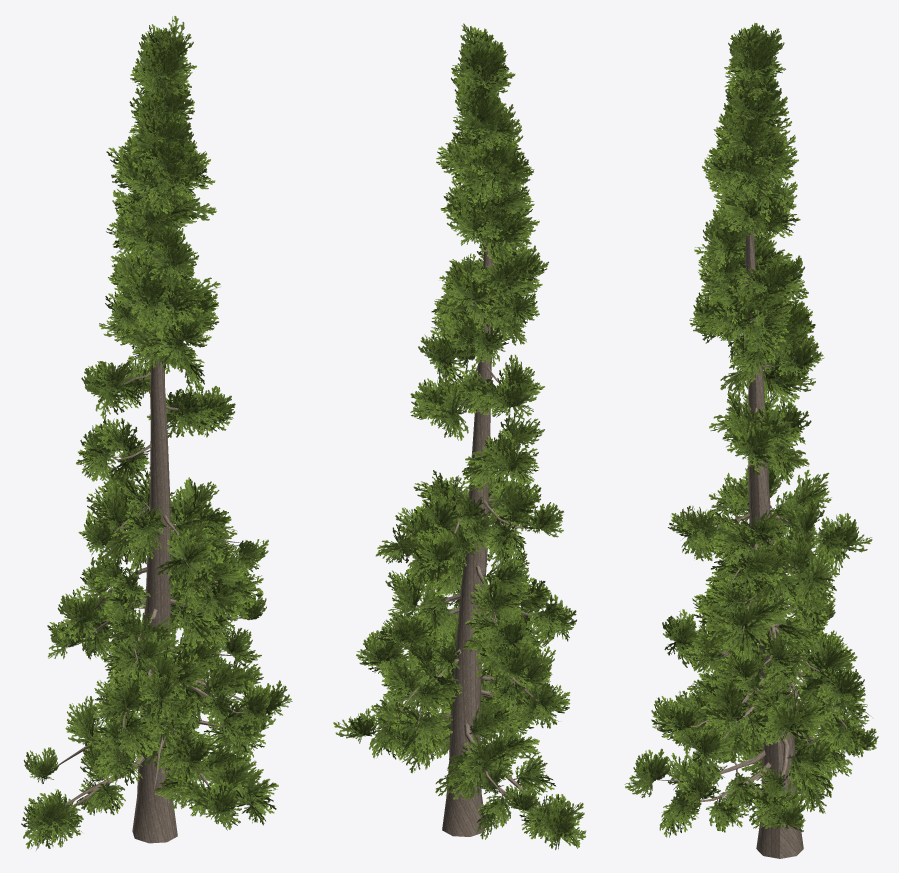
File: RedCedar_1.obj
The picture shows the model from 3 angles, left to right: view 1: azimuth 30°, elevation 25°; view 2: azimuth 150°, elevation 25°; view 3: azimuth 270°, elevation 25°; orthographic projection. The views are drawn at different scales.
Visible parts, largest first — view 1: RedCedar_1; view 2: RedCedar_1; view 3: RedCedar_1.
Part boxes in pixels (x1,y1,x2,y2): RedCedar_1: (21, 16, 292, 850); RedCedar_1: (333, 23, 586, 849); RedCedar_1: (624, 23, 878, 858).
Bounding box in the file's own units: 35.66 × 107 × 30.55.
Materials: 2 (2 with a texture image).
